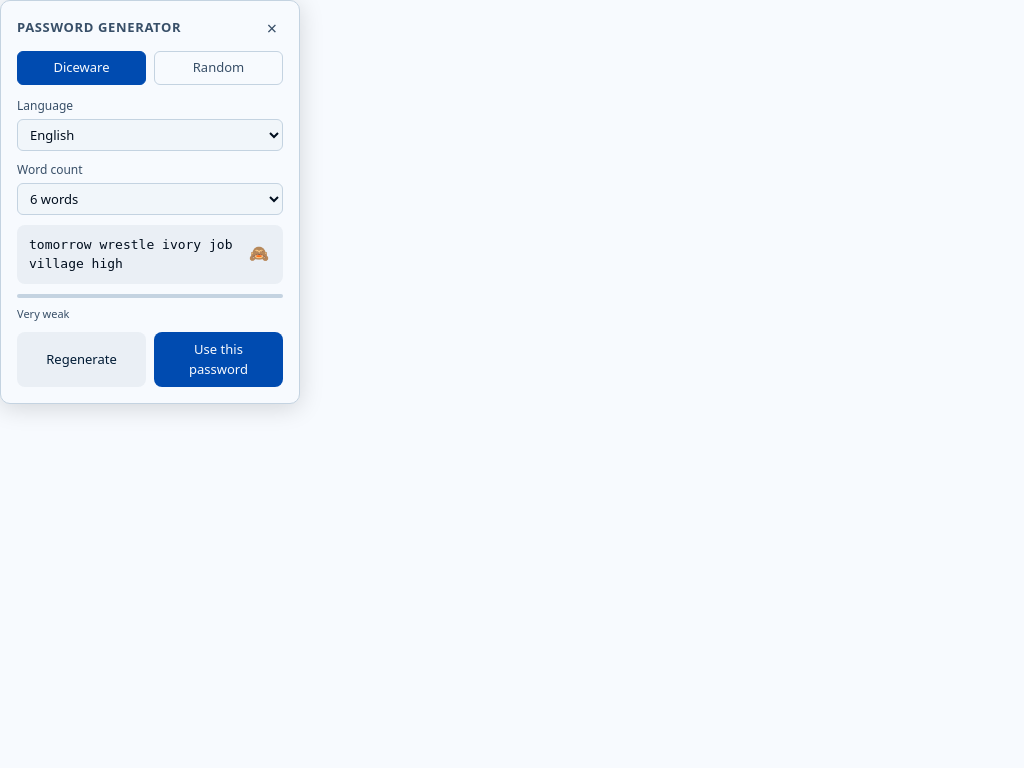
Test case: GeneratorPanel — 모드 전환 › Random 모드 → Diceware 버튼 클릭 시 Word count 셀렉트 복귀
Click the button "Random" at (218, 68), box [154,51,283,84]
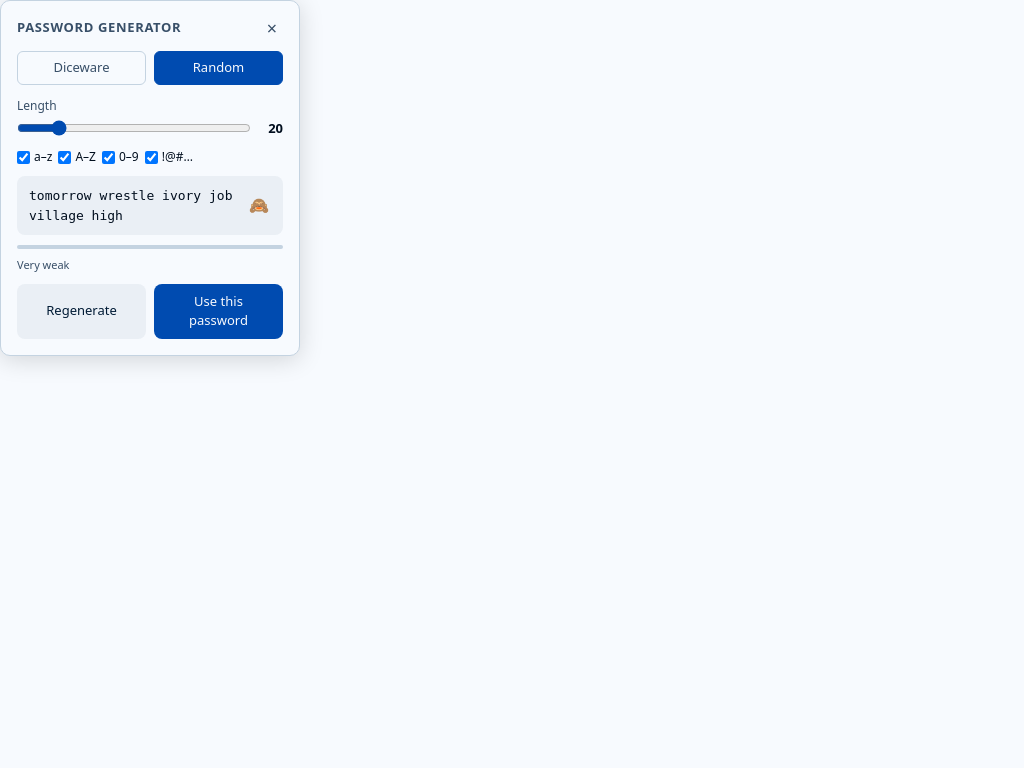
Click the button "Diceware" at (82, 68), box [17,51,146,84]
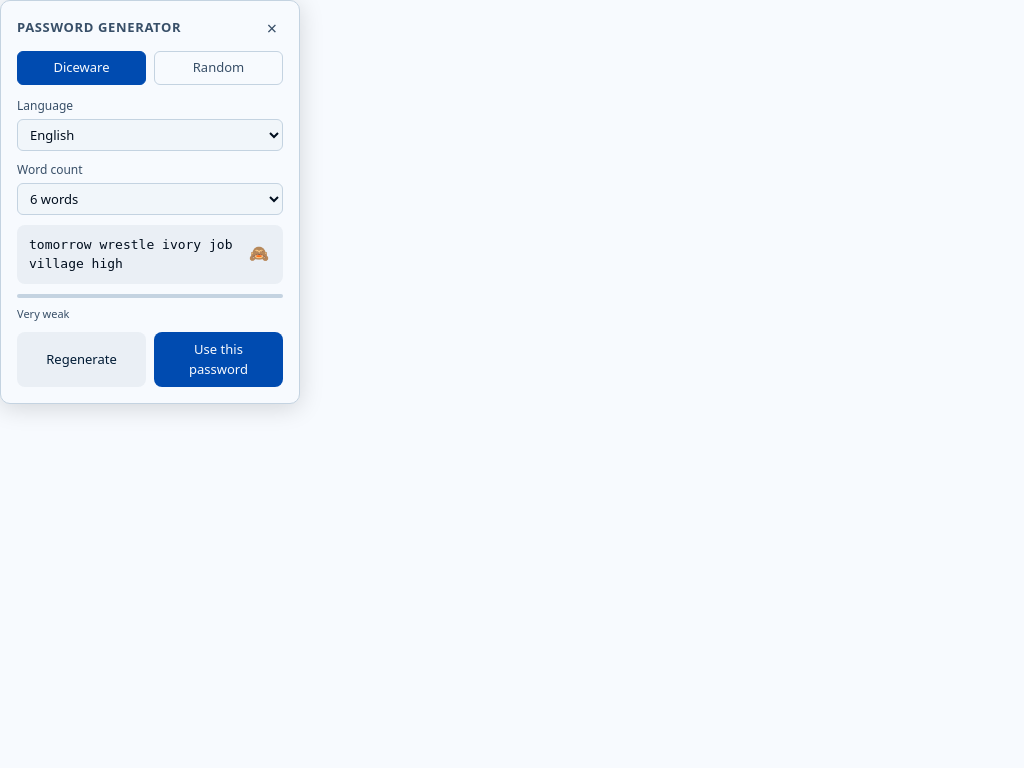
Now the dropdown labelled "Word count" is shown, box [17,182,283,214]
